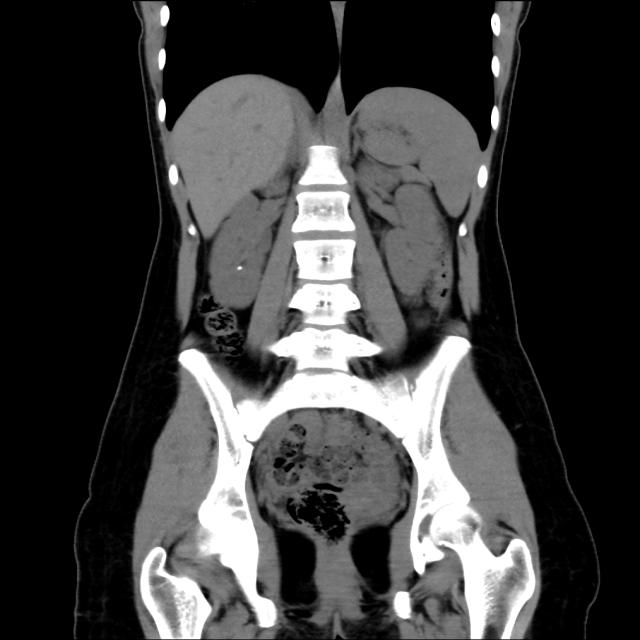kidneystone: (237, 265, 243, 271)
